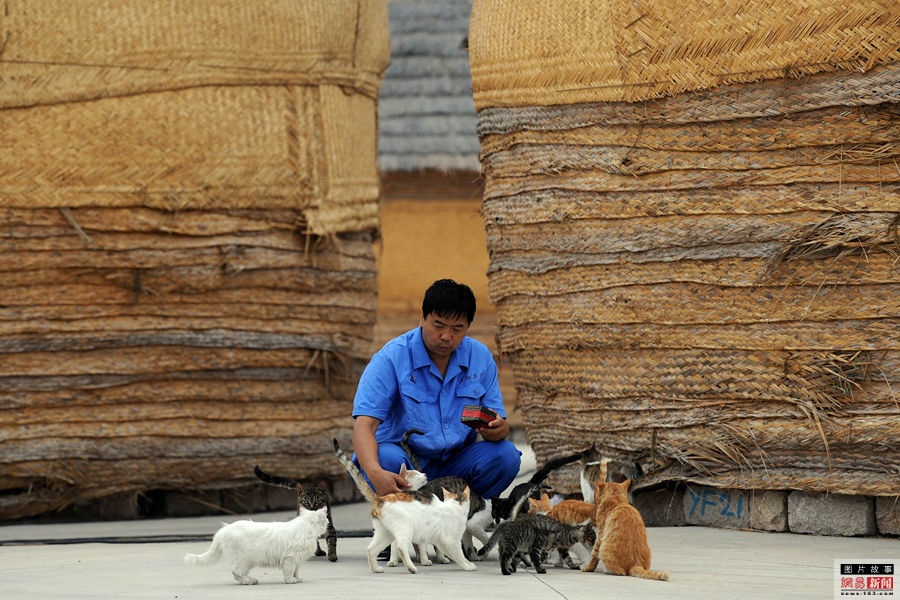cat: (333, 438, 476, 572), (187, 502, 330, 584), (585, 478, 668, 582), (528, 456, 607, 561), (254, 465, 339, 560), (476, 514, 596, 576), (460, 492, 527, 559)
